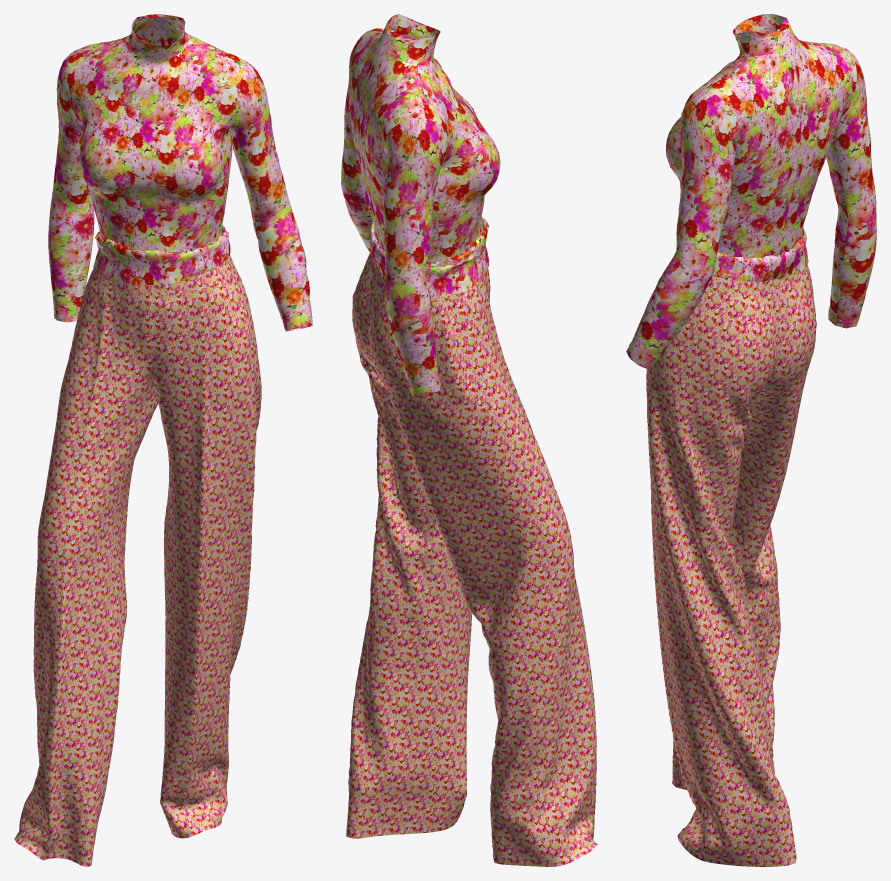
File: DA_HighNeck+WidePants_0000089.obj
The picture shows the model from 3 angles, left to right: view 1: azimuth 30°, elevation 25°; view 2: azimuth 150°, elevation 25°; view 3: azimuth 270°, elevation 25°; orthographic projection. The views are drawn at different scales.
Bounding box in the file's own units: 0.5543 × 1.63 × 0.4472.
